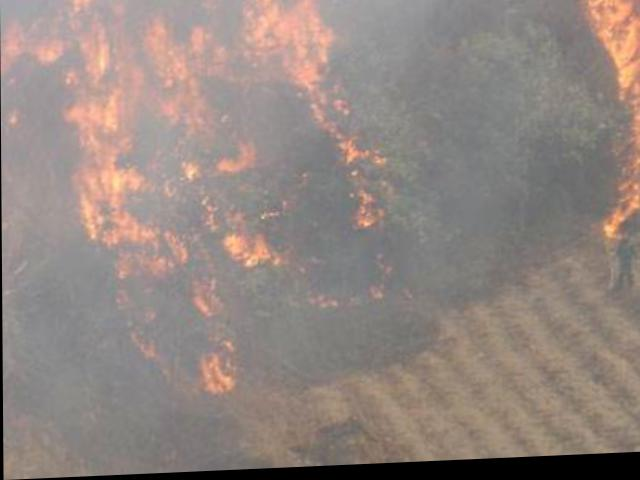fire: (48, 0, 356, 399), (578, 0, 639, 253)
